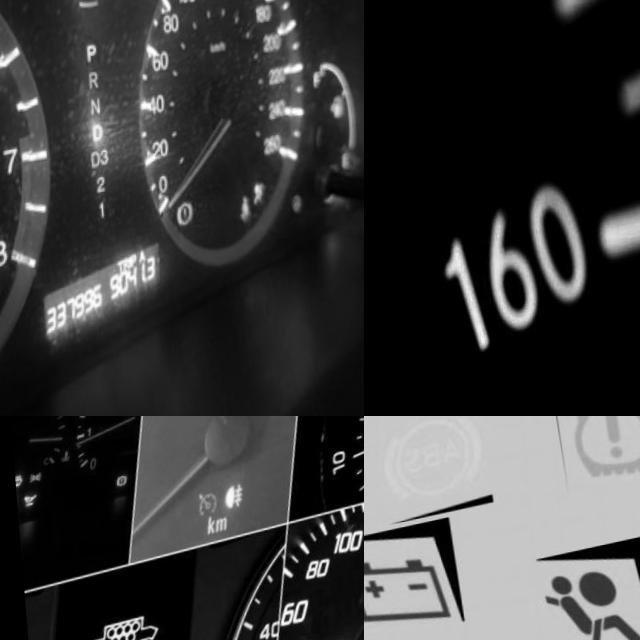Seat Belt: (231, 209, 246, 239)
